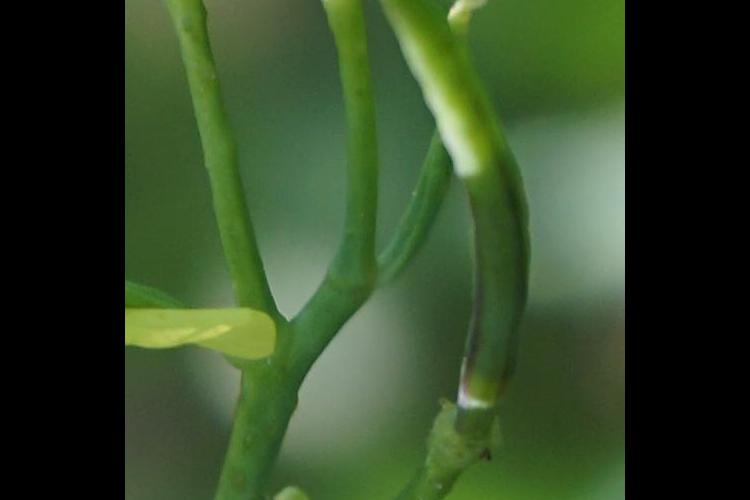bud: (303, 1, 558, 459)
